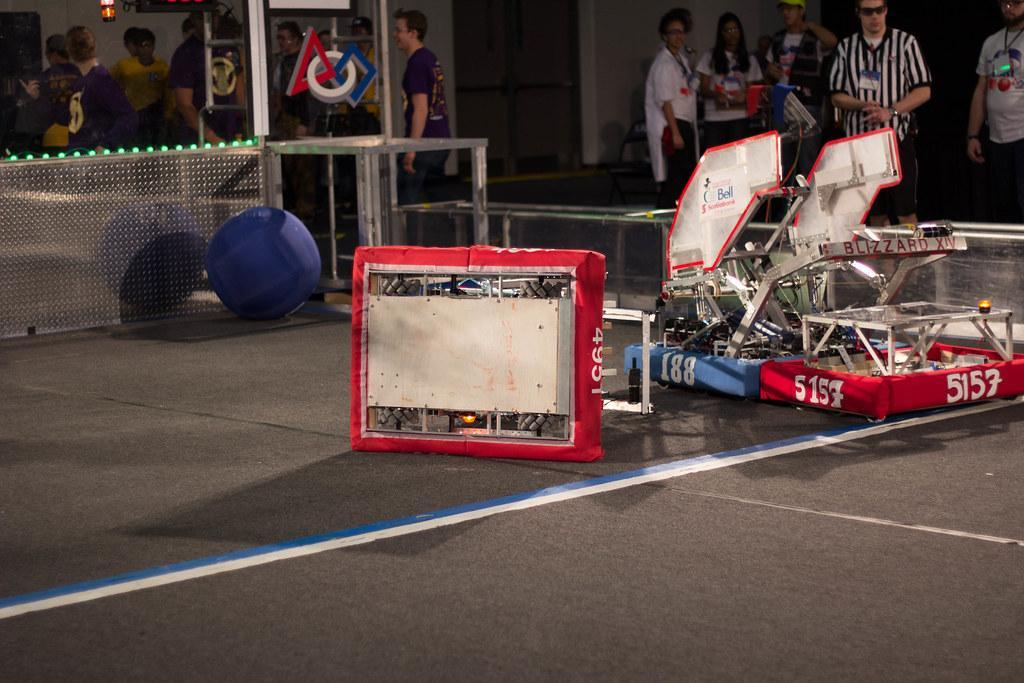robot: (625, 125, 907, 407), (342, 239, 657, 467), (759, 216, 1024, 433)
